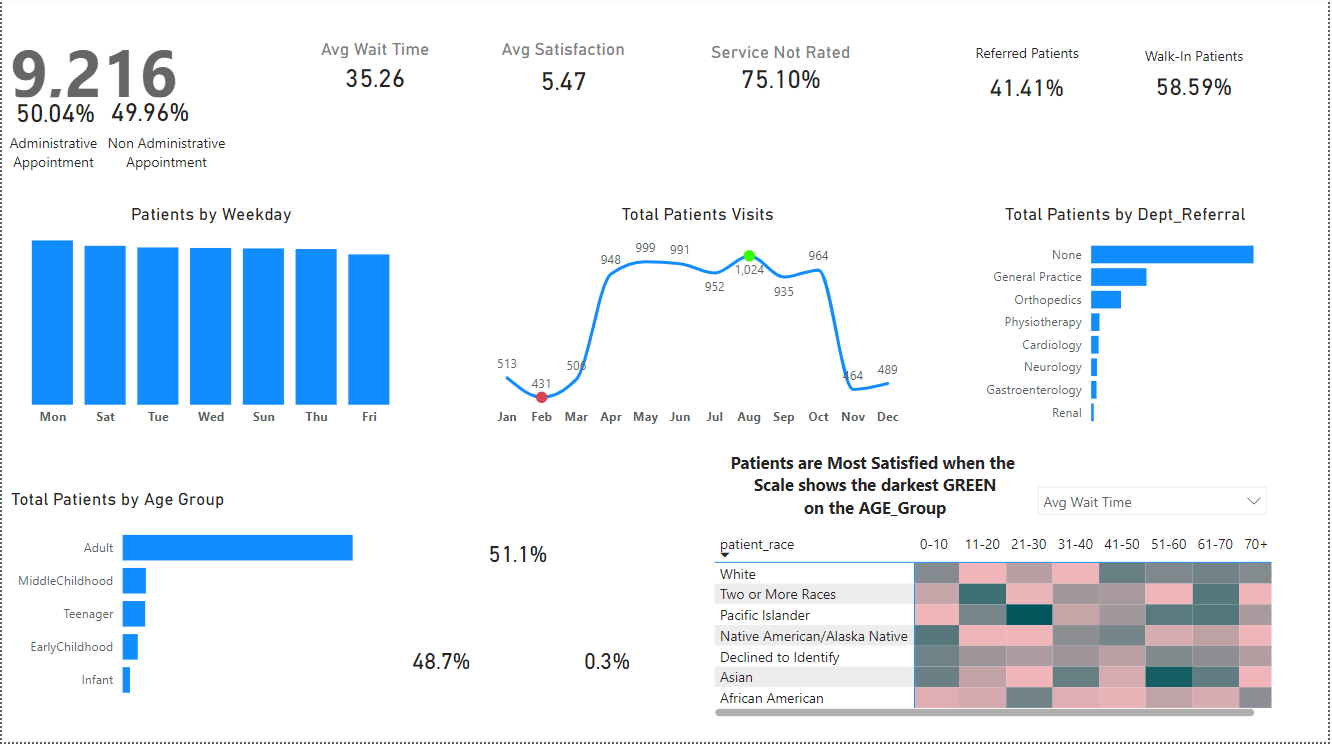

Layout of this report page (visuals, bound fields, positions):
{"tool":"powerbi","page":{"name":"Page 1","canvas":[1280,720],"ordinal":0},"visuals":[{"type":"card","fields":{"Values":["Calculations.Total Patients"]},"box":[29.8,34.5,177.4,64.3],"z":0},{"type":"card","fields":{"Values":["Calculations.Administrative Schedule"]},"box":[15.5,100,95.2,31],"z":1000},{"type":"card","fields":{"Values":["Calculations.% Non Administrative Schedule"]},"box":[121.4,98.8,88.1,32.1],"z":2000},{"type":"card","title":"Avg Satisfaction","fields":{"Values":["Calculations.Avg Satisfaction Score"]},"box":[486.9,86.9,131,61.9],"z":3000},{"type":"card","title":"Service Not Rated","fields":{"Values":["Calculations.% No Rating"]},"box":[671.4,84.5,152.4,53.6],"z":4000},{"type":"card","title":"Avg Wait Time","fields":{"Values":["Calculations.Avg Wait Time"]},"box":[301.2,89.3,120.2,56],"z":5000},{"type":"pivotTable","fields":{"Values":["Calculations.Avg Satisfaction Score"],"Rows":["Patients Data.patient_race"],"Columns":["Patients Data.Age Bucket"]},"box":[671.4,508.3,547.6,188.1],"z":6000},{"type":"slicer","fields":{"Values":["Parameter.Parameter"]},"box":[979.8,446.4,241.7,41.7],"z":7000},{"type":"clusteredBarChart","fields":{"Category":["Patients Data.Age Group"],"Y":["Calculations.Total Patients"]},"box":[29.8,440.5,316.7,241.7],"z":8000},{"type":"stackedAreaChart","title":"Total Patients Visits","fields":{"Category":["DATE.Month"],"Y":["Calculations.Total Patients"]},"box":[446.4,188.1,444,225],"z":9000},{"type":"clusteredBarChart","title":"Total Patients by Dept_Referral","fields":{"Y":["Calculations.Total Patients"],"Category":["Patients Data.department_referral"]},"box":[929.8,188.1,291.7,213.1],"z":10000},{"type":"card","fields":{"Values":["Calculations.% Un Reffered Patients"]},"box":[1122.6,110.7,85.7,34.5],"z":11000},{"type":"card","fields":{"Values":["Calculations.%  Reffered Patients"]},"box":[947.6,111.9,83.3,33.3],"z":12000},{"type":"card","fields":{"Values":["Calculations.HeatMap Caption"]},"box":[658.3,419,319,88.1],"z":13000},{"type":"textbox","box":[11.9,128.6,98.8,72.6],"z":14000},{"type":"textbox","box":[100,130,131,72],"z":15000},{"type":"textbox","box":[1091.8,43.4,117,29],"z":16000},{"type":"textbox","box":[915.7,41,147.2,31.4],"z":17000},{"type":"columnChart","title":"Patients by Weekday","fields":{"Category":["DATE.Weekday"],"Y":["Calculations.Total Patients"]},"box":[21.4,188.1,389.3,213.1],"z":18000},{"type":"card","fields":{"Values":["Calculations.% MaleVisits"]},"box":[446.4,467.9,126.2,53.6],"z":19000},{"type":"card","fields":{"Values":["Calculations.% femaleVisits"]},"box":[361.9,620.2,126.2,61.9],"z":20000},{"type":"card","fields":{"Values":["Calculations.% UnknownVisits"]},"box":[572.6,622.6,67.9,57.1],"z":21000},{"type":"textbox","box":[29.8,21.4,164.3,45.2],"z":22000},{"type":"textbox","box":[435.7,546.4,157.1,32.1],"z":22001},{"type":"textbox","box":[446.4,507.1,135.7,28.6],"z":22002},{"type":"textbox","box":[373.8,663.1,95.2,57.1],"z":22003},{"type":"textbox","box":[540.5,665.5,106,28.6],"z":22004},{"type":"textbox","box":[915.5,459.5,92.9,28.6],"z":22005},{"type":"textbox","box":[456,602.4,126.2,57.1],"z":22006},{"type":"textbox","box":[0,0,446.4,34.5],"z":22007}]}

Visuals, with their boxes in screenshot pixels (x1, y1, x2, y2), scaled from the page's 1280x720 canvas onto the 1332x744 screenshot:
card - Calculations.Total Patients: BBox(31, 36, 216, 102)
card - Calculations.Administrative Schedule: BBox(16, 103, 115, 135)
card - Calculations.% Non Administrative Schedule: BBox(126, 102, 218, 135)
"Avg Satisfaction" card: BBox(507, 90, 643, 154)
"Service Not Rated" card: BBox(699, 87, 857, 143)
"Avg Wait Time" card: BBox(313, 92, 439, 150)
pivotTable - Calculations.Avg Satisfaction Score x Patients Data.patient_race: BBox(699, 525, 1269, 720)
slicer - Parameter.Parameter: BBox(1020, 461, 1271, 504)
clusteredBarChart - Patients Data.Age Group x Calculations.Total Patients: BBox(31, 455, 361, 705)
"Total Patients Visits" stackedAreaChart: BBox(465, 194, 927, 427)
"Total Patients by Dept_Referral" clusteredBarChart: BBox(968, 194, 1271, 415)
card - Calculations.% Un Reffered Patients: BBox(1168, 114, 1257, 150)
card - Calculations.%  Reffered Patients: BBox(986, 116, 1073, 150)
card - Calculations.HeatMap Caption: BBox(685, 433, 1017, 524)
textbox: BBox(12, 133, 115, 208)
textbox: BBox(104, 134, 240, 209)
textbox: BBox(1136, 45, 1258, 75)
textbox: BBox(953, 42, 1106, 75)
"Patients by Weekday" columnChart: BBox(22, 194, 427, 415)
card - Calculations.% MaleVisits: BBox(465, 483, 596, 539)
card - Calculations.% femaleVisits: BBox(377, 641, 508, 705)
card - Calculations.% UnknownVisits: BBox(596, 643, 667, 702)
textbox: BBox(31, 22, 202, 69)
textbox: BBox(453, 565, 617, 598)
textbox: BBox(465, 524, 606, 554)
textbox: BBox(389, 685, 488, 743)
textbox: BBox(562, 688, 673, 717)
textbox: BBox(953, 475, 1049, 504)
textbox: BBox(475, 622, 606, 681)
textbox: BBox(0, 0, 465, 36)
